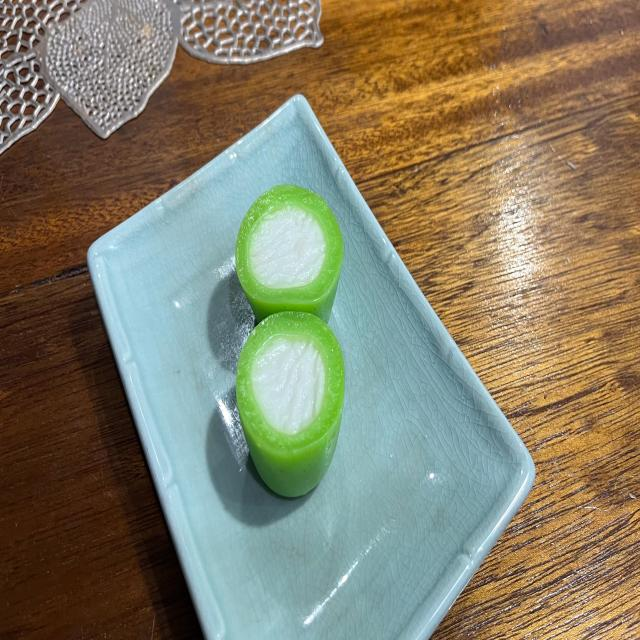nona-manis: (236, 311, 345, 498), (235, 184, 344, 322)
